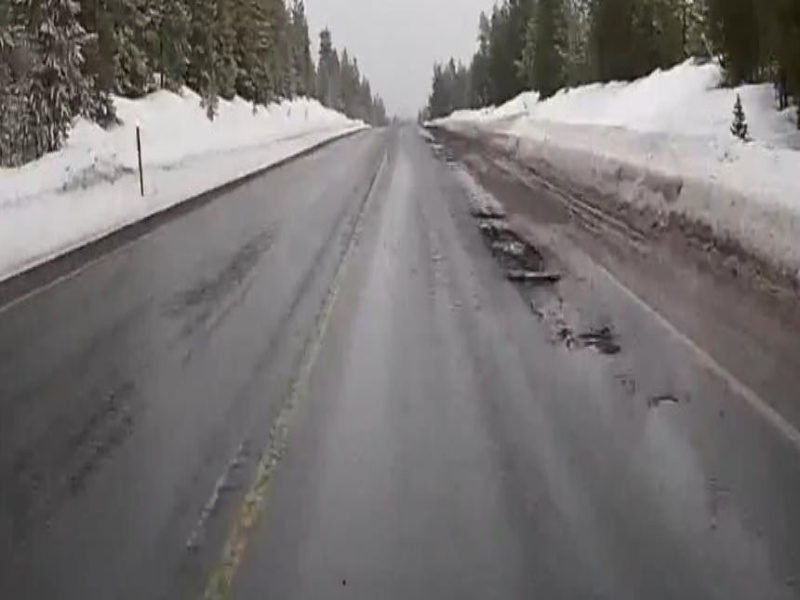pothole: (476, 223, 546, 270), (573, 328, 625, 358), (507, 274, 561, 287)
